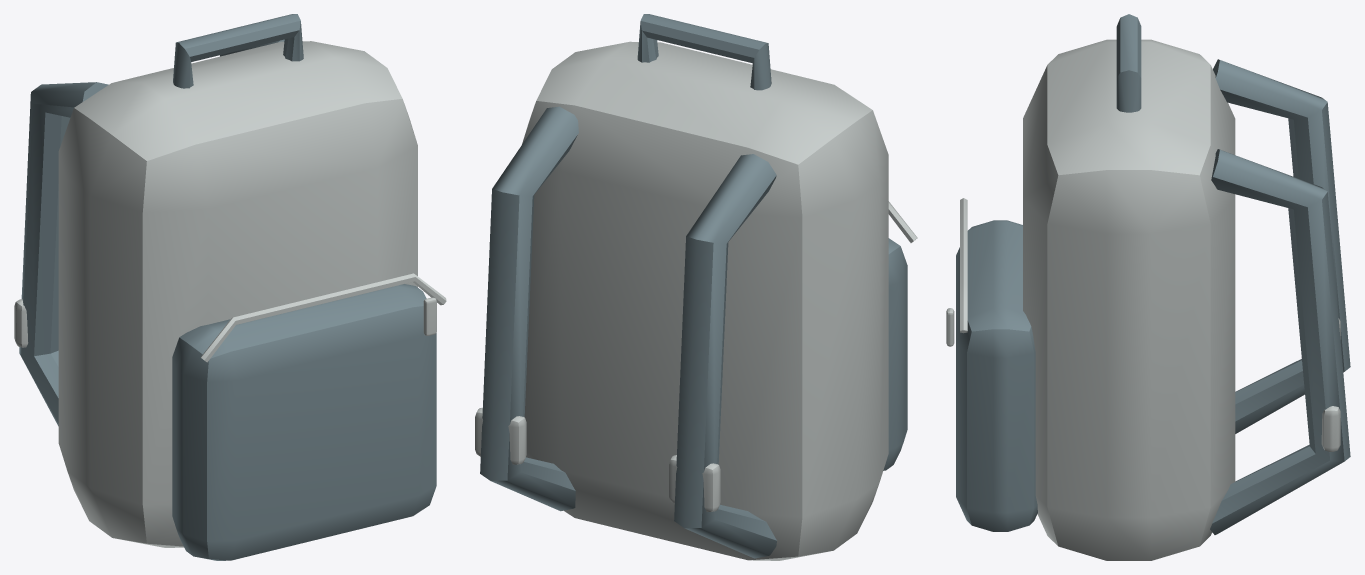
File: backpack.glb
3 views of the same model, side by side, from view 1: azimuth 30°, elevation 25°; view 2: azimuth 150°, elevation 25°; view 3: azimuth 270°, elevation 25° (orthographic). The views are drawn at different scales.
Parts seen in each view (by area): view 1: main_bag, front_pocket, shoulder_strap, top_handle, zipper, strap_buckle; view 2: main_bag, shoulder_strap, shoulder_strap.001, front_pocket, top_handle, strap_buckle, strap_buckle.001; view 3: main_bag, front_pocket, shoulder_strap.001, shoulder_strap, top_handle, zipper, strap_buckle.001.
Boxes of the visible parts, x1,y1,x2,y2 form: main_bag: (58,41,417,547); front_pocket: (172,284,436,560); shoulder_strap: (19,82,108,426); top_handle: (173,14,303,88); zipper: (200,273,446,362); strap_buckle: (14,299,28,347); main_bag: (522,41,888,560); shoulder_strap: (674,154,776,558); shoulder_strap.001: (480,106,578,511); front_pocket: (883,238,907,470); top_handle: (637,14,771,90); strap_buckle: (669,455,720,511); strap_buckle.001: (475,407,526,464); main_bag: (1023,39,1235,560); front_pocket: (956,220,1037,531); shoulder_strap.001: (1210,149,1350,534); shoulder_strap: (1213,59,1350,433); top_handle: (1116,14,1141,112); zipper: (960,198,967,333); strap_buckle.001: (1321,406,1340,451).
Size of the model in its own units: 0.32 by 0.47 by 0.3618.
